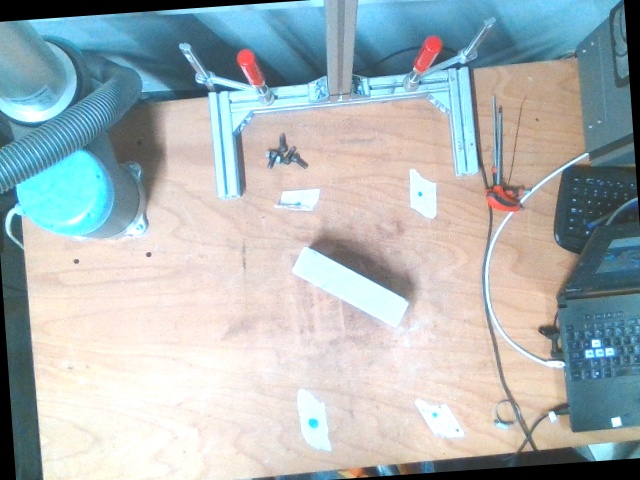brick-side: (290, 246, 408, 329)
